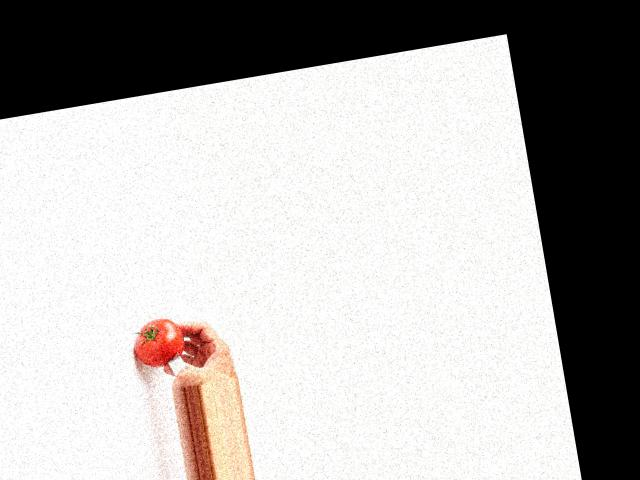tomato: (130, 315, 188, 370)
